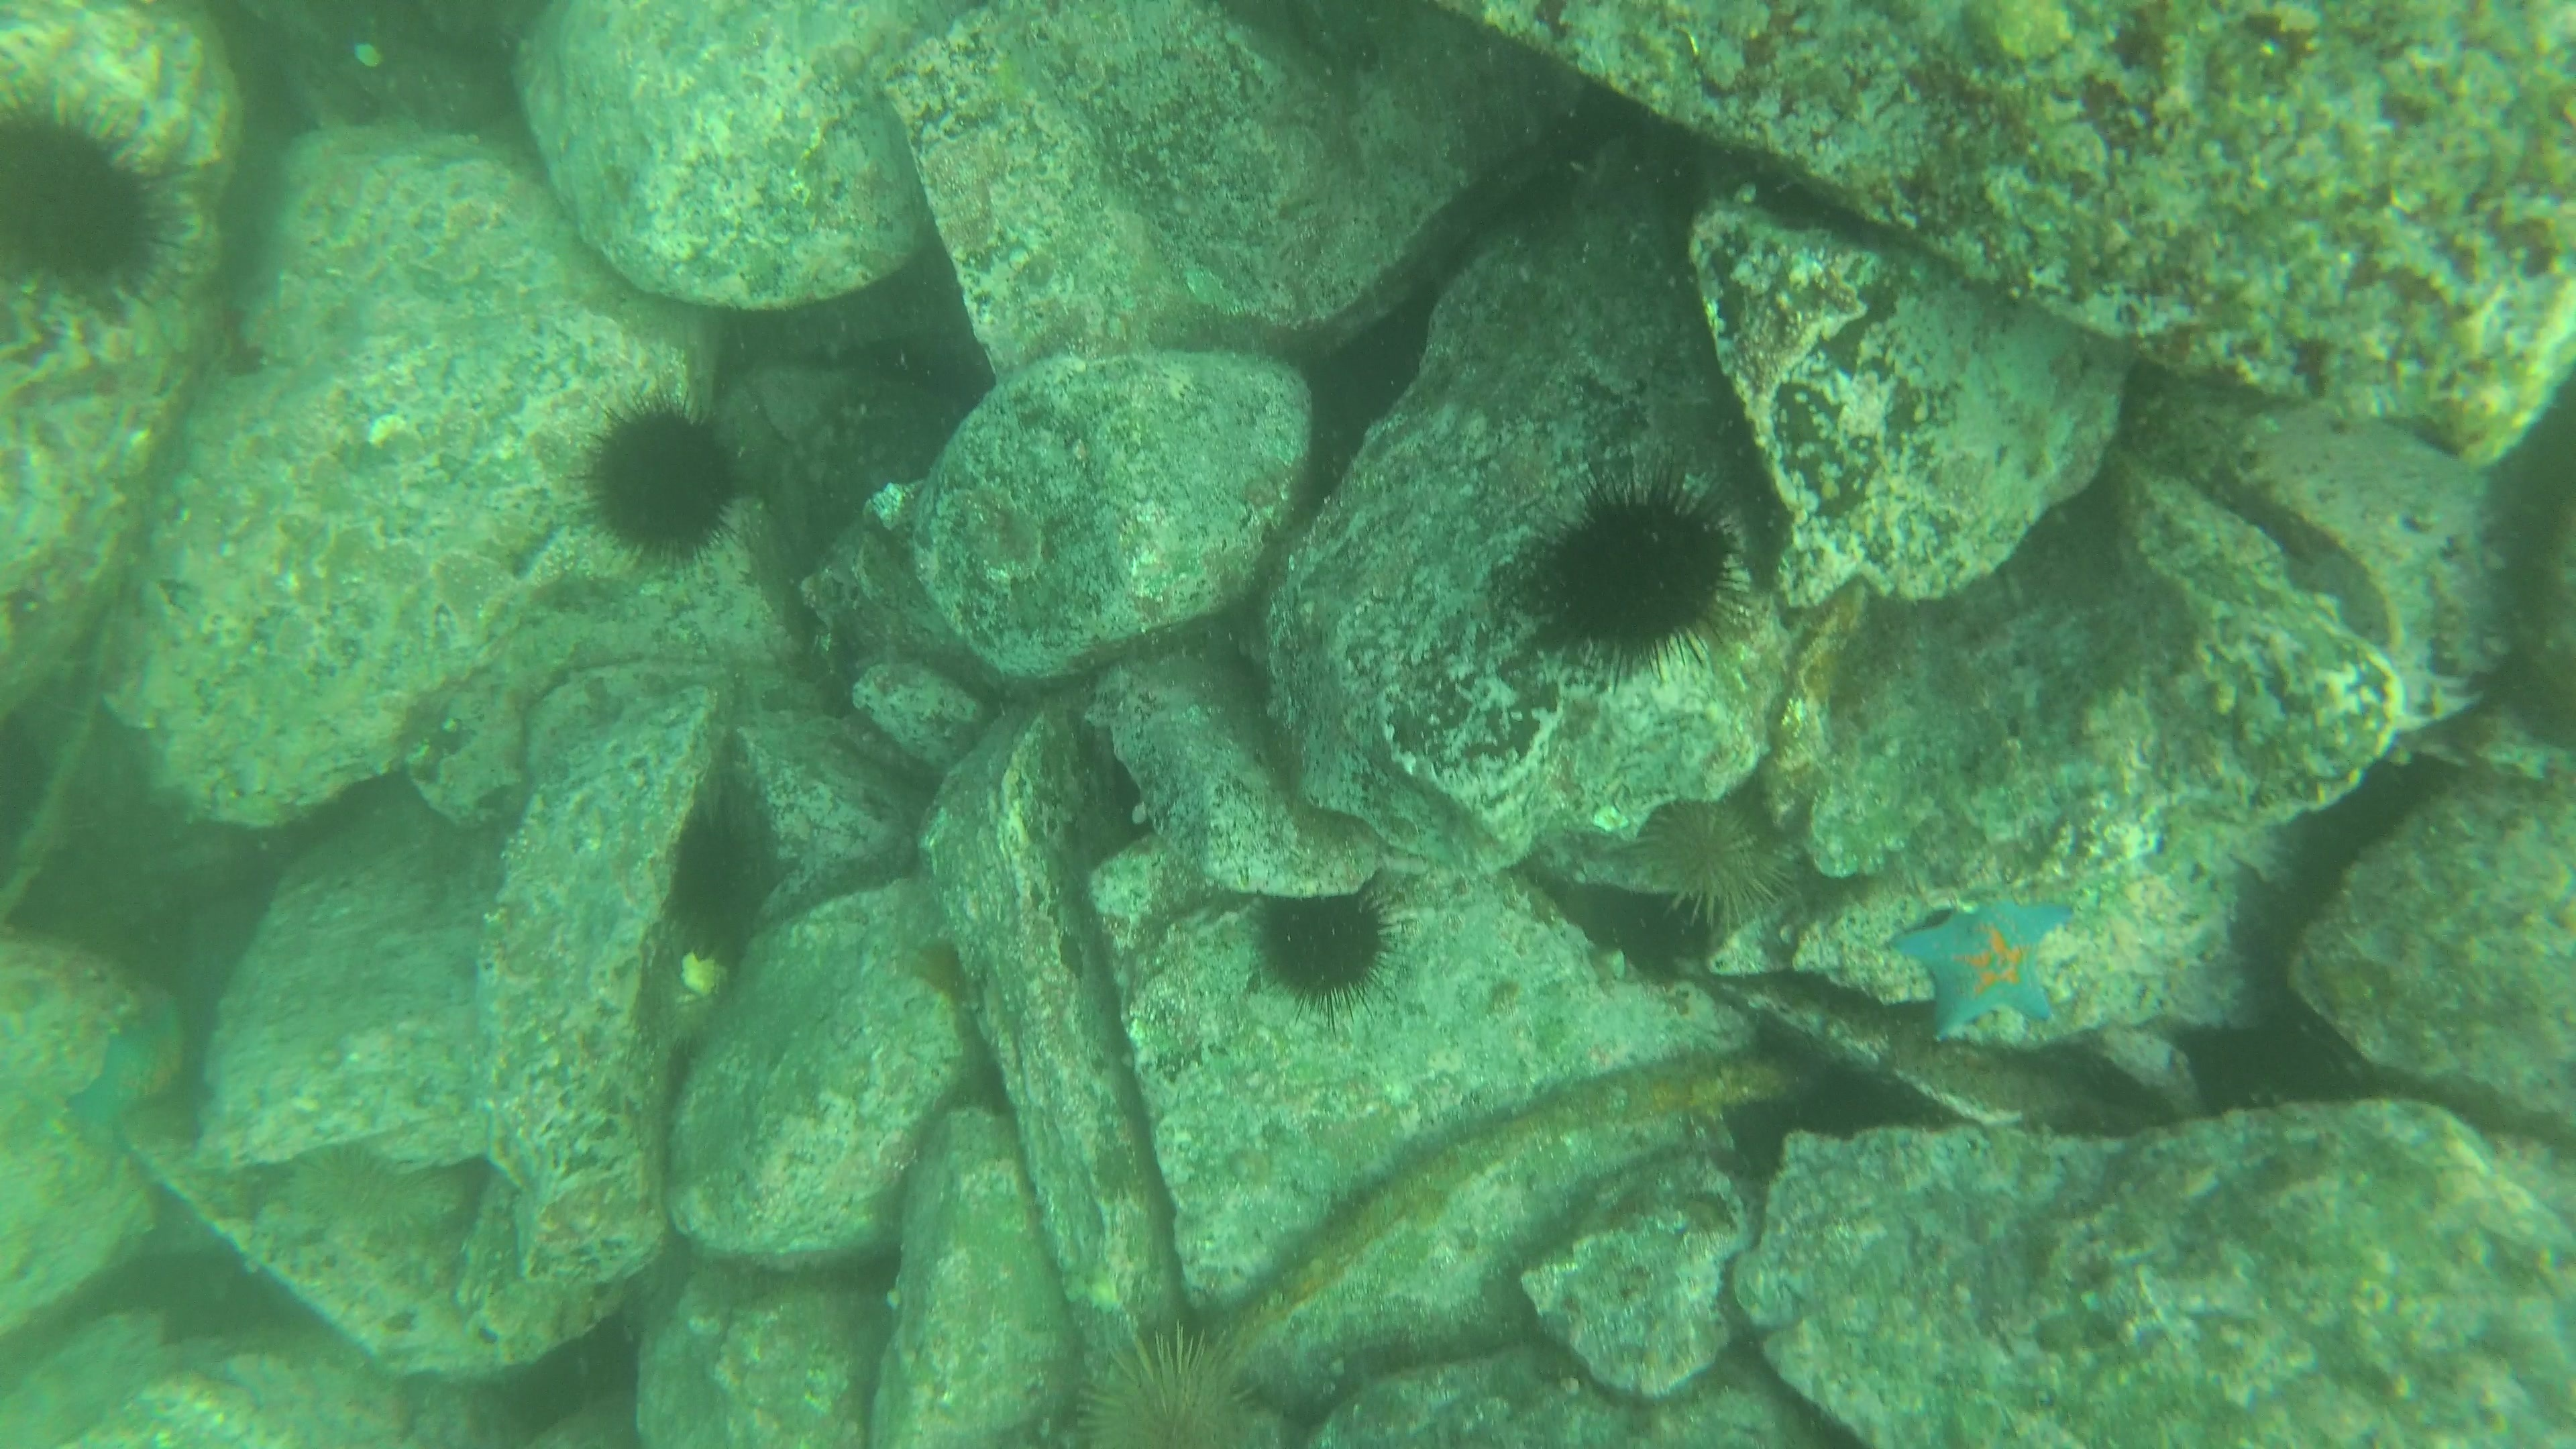echinus: (1522, 469, 1752, 676), (2, 81, 182, 304), (573, 389, 750, 566), (1065, 1322, 1279, 1445), (1629, 789, 1794, 934), (1246, 879, 1399, 1010), (658, 800, 784, 955)
starfish: (1886, 881, 2082, 1046), (60, 991, 200, 1166)
